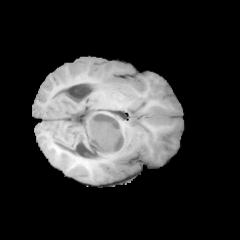glioma: (84, 110, 130, 156)
